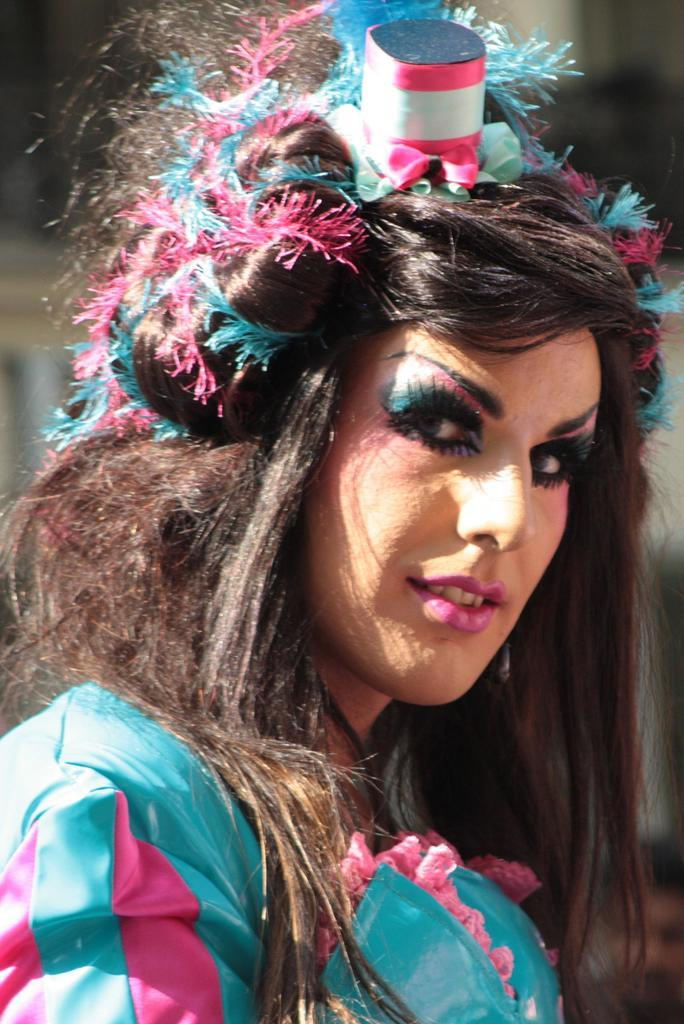Hat: (326, 14, 526, 204)
